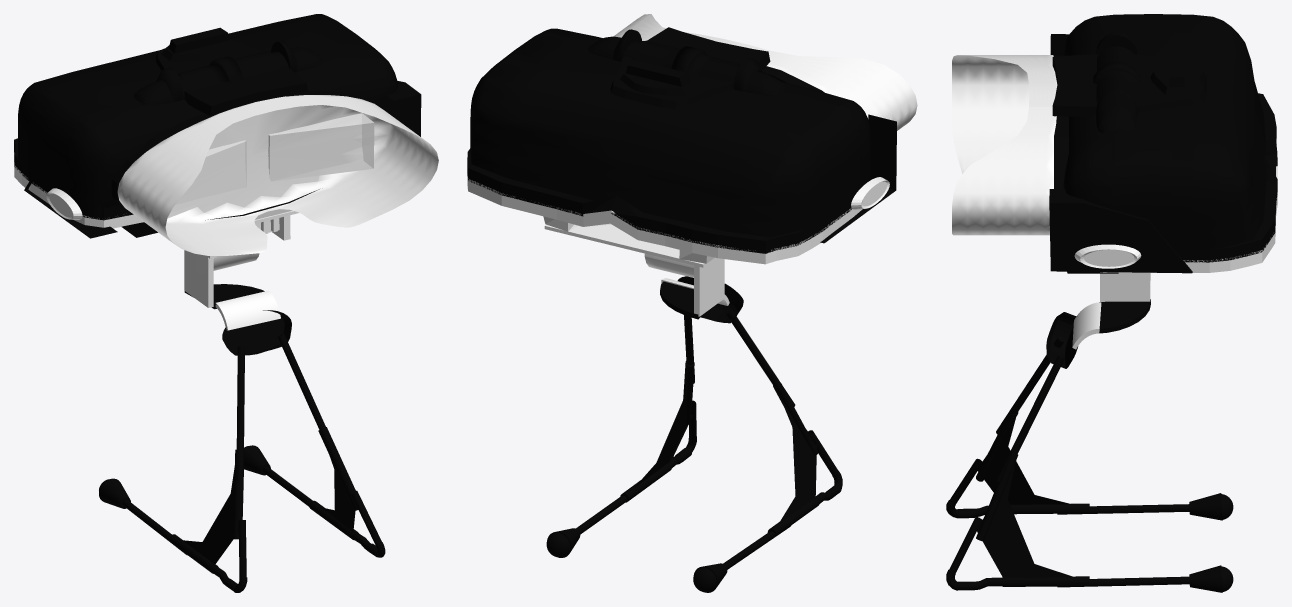
The model's file is virtualboy.glb.
The picture shows the model from 3 angles, left to right: view 1: azimuth 30°, elevation 25°; view 2: azimuth 150°, elevation 25°; view 3: azimuth 270°, elevation 25°; orthographic projection. The views are drawn at different scales.
Visible parts, largest first — view 1: 3DSMeshMatrix (×28); view 2: 3DSMeshMatrix (×20); view 3: 3DSMeshMatrix (×31).
Part boxes in pixels (<box>): 3DSMeshMatrix (×28): <box>14,14,438,564</box>; 3DSMeshMatrix (×20): <box>467,14,917,522</box>; 3DSMeshMatrix (×31): <box>949,14,1277,592</box>.
Bounding box in the file's own units: 375 × 489 × 299.
6 materials, 1 textured.
